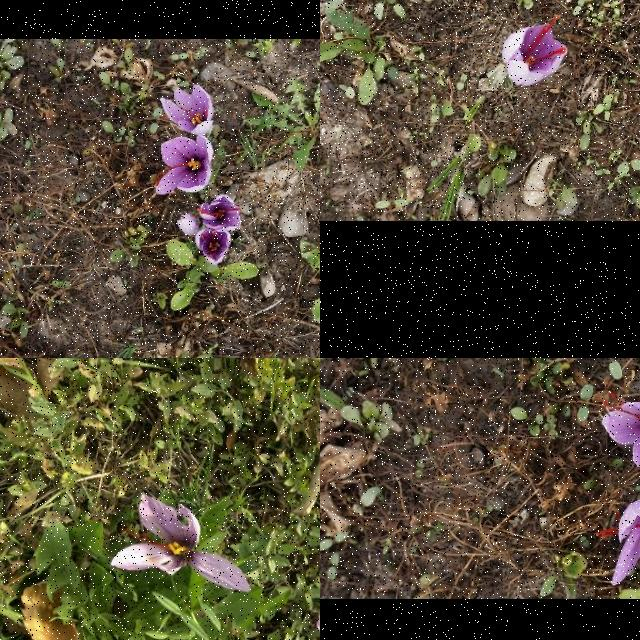flower: (110, 492, 252, 594), (592, 496, 640, 599), (502, 15, 568, 87), (155, 136, 213, 194), (600, 390, 640, 474), (160, 86, 212, 136), (197, 194, 241, 230), (196, 230, 230, 266), (177, 214, 201, 236)
